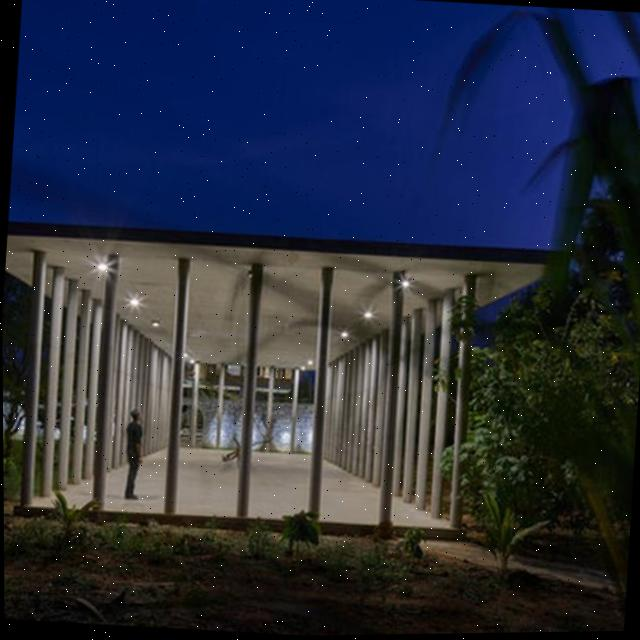building: (2, 208, 567, 557)
